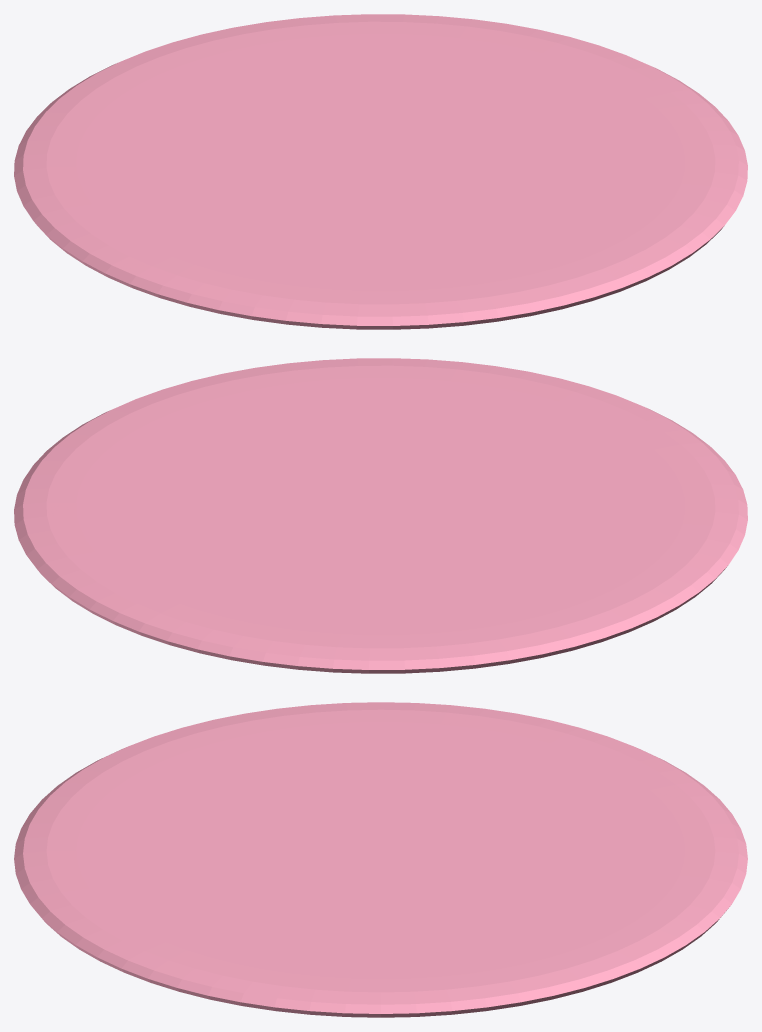
Rendered from DecoCandleONE.glb.
3 views of the same model, one above another, from view 1: azimuth 30°, elevation 25°; view 2: azimuth 150°, elevation 25°; view 3: azimuth 270°, elevation 25° (orthographic).
Visible parts, largest first — view 1: Circle.001; view 2: Circle.001; view 3: Circle.001.
Boxes of the visible parts, x1,y1,x2,y2 form: Circle.001: [14, 14, 747, 329]; Circle.001: [14, 358, 747, 673]; Circle.001: [14, 702, 747, 1017].
Bounding box in the file's own units: 0.3735 × 0.00923 × 0.3735.
